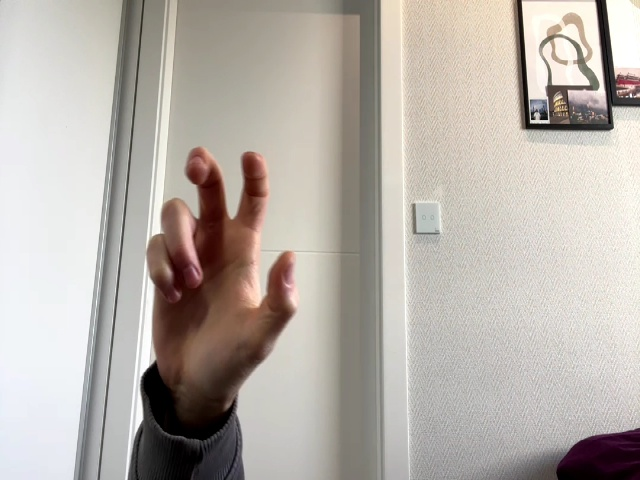CH: (147, 147, 299, 389)
